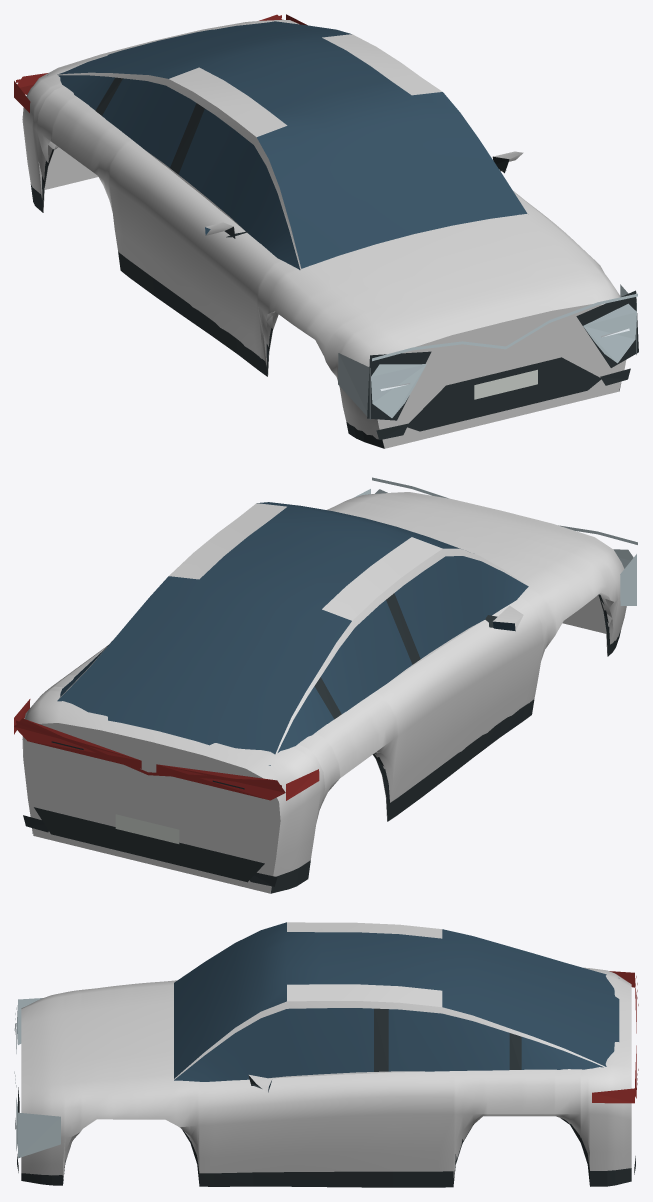
File: veh_vf7-lod1.glb
The picture shows the model from 3 angles, top to bottom: view 1: azimuth 30°, elevation 25°; view 2: azimuth 150°, elevation 25°; view 3: azimuth 270°, elevation 25°; orthographic projection. The views are drawn at different scales.
Visible parts, largest first — view 1: paint, glass, trim, head, plate, tail; view 2: paint, glass, trim, tail, head, plate; view 3: paint, glass, trim, head, tail.
Part boxes in pixels (<box>): paint: <box>22,19,626,448</box>; glass: <box>47,21,527,269</box>; trim: <box>30,77,638,448</box>; head: <box>338,284,637,420</box>; plate: <box>474,369,537,399</box>; tail: <box>14,14,307,112</box>; paint: <box>22,492,626,893</box>; glass: <box>57,502,528,765</box>; trim: <box>23,593,620,893</box>; tail: <box>14,699,319,800</box>; head: <box>354,477,637,605</box>; plate: <box>115,814,179,843</box>; paint: <box>21,922,631,1178</box>; glass: <box>174,922,619,1092</box>; trim: <box>17,1008,635,1187</box>; head: <box>14,998,60,1158</box>; tail: <box>592,971,638,1103</box>.
Size of the model in its own units: 1.57 by 0.965 by 3.11.
